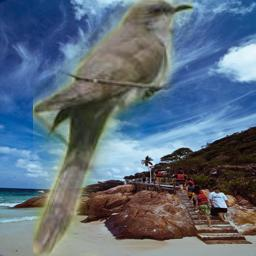Cuckoo: (33, 0, 193, 256)
